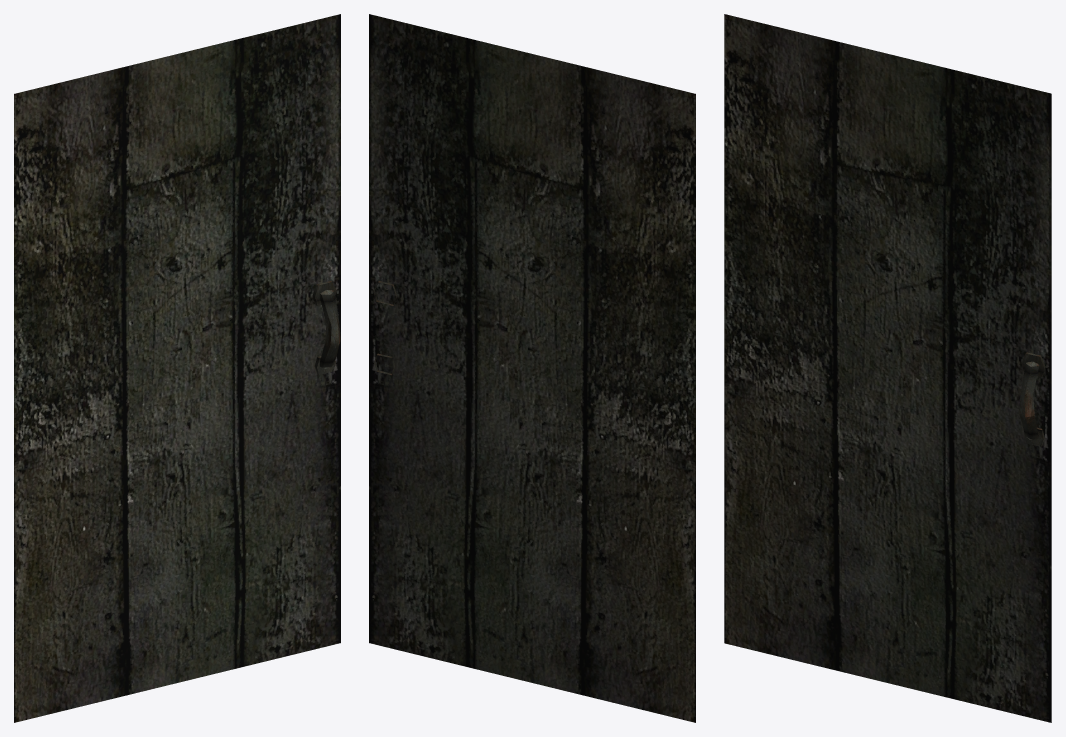
The model's file is ex_de_ship_door.obj.
The picture shows the model from 3 angles, left to right: view 1: azimuth 30°, elevation 25°; view 2: azimuth 150°, elevation 25°; view 3: azimuth 330°, elevation 25°; orthographic projection.
Parts seen in each view (by area): view 1: nifid_6-matrix_Tri_Ex_DE_shipdoor_0-lib, nifid_1-matrix_cabindoor_handle-lib; view 2: nifid_6-matrix_Tri_Ex_DE_shipdoor_0-lib; view 3: nifid_6-matrix_Tri_Ex_DE_shipdoor_0-lib, nifid_1-matrix_cabindoor_handle-lib.
Part boxes in pixels (<box>): nifid_6-matrix_Tri_Ex_DE_shipdoor_0-lib: <box>14,14,340,722</box>; nifid_1-matrix_cabindoor_handle-lib: <box>312,281,340,374</box>; nifid_6-matrix_Tri_Ex_DE_shipdoor_0-lib: <box>369,14,695,722</box>; nifid_6-matrix_Tri_Ex_DE_shipdoor_0-lib: <box>724,14,1051,722</box>; nifid_1-matrix_cabindoor_handle-lib: <box>1019,352,1045,446</box>.
Bounding box in the file's own units: 2.29 × 4.21 × 0.175.
